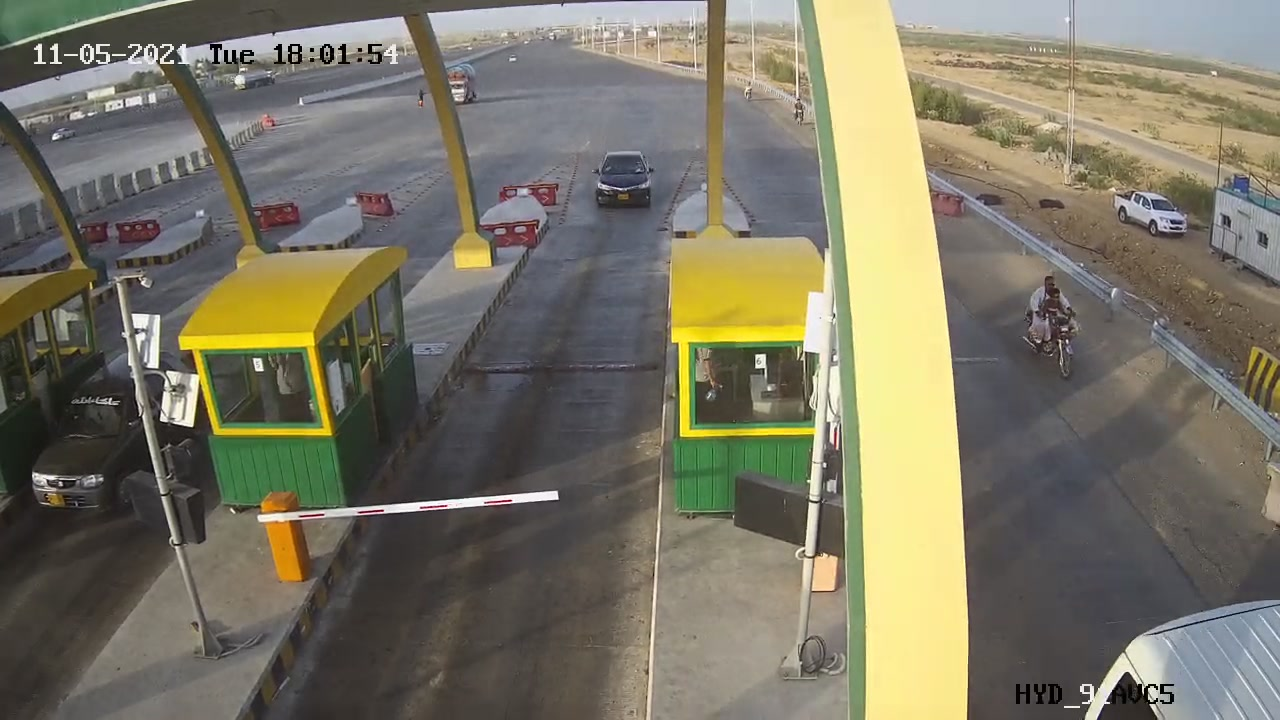F1: (585, 143, 660, 217)
